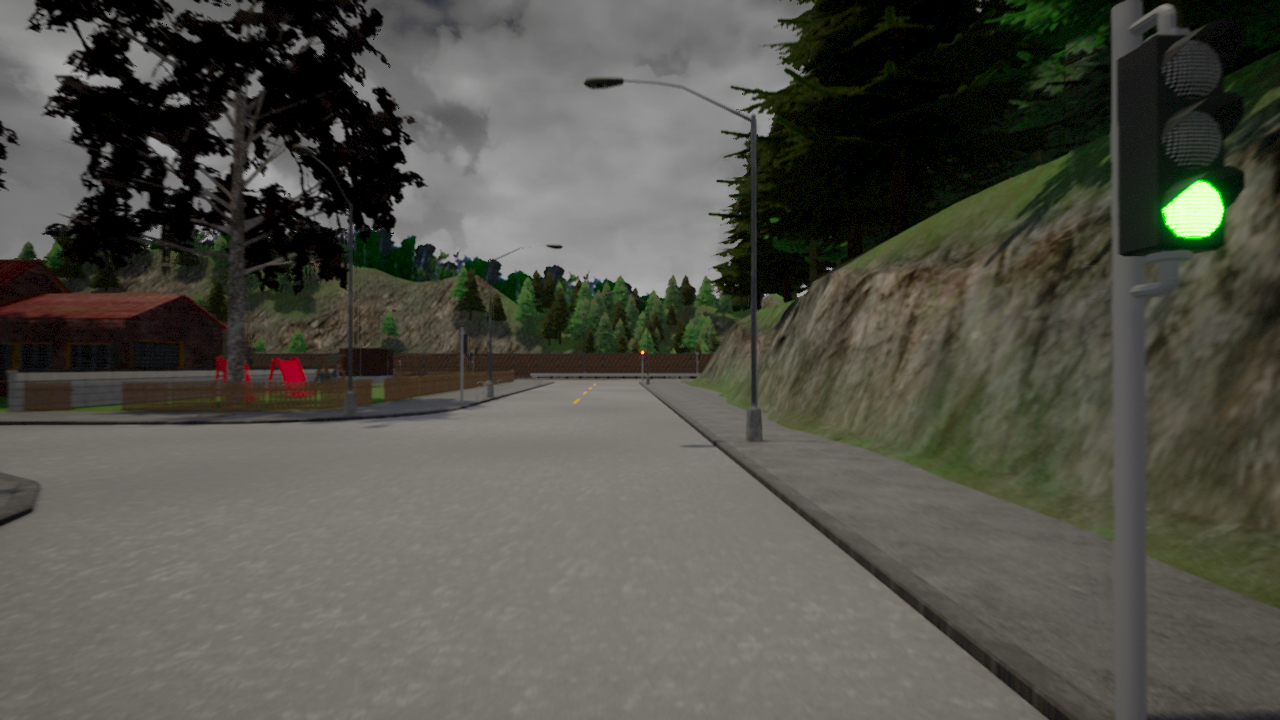green: (1123, 32, 1231, 254)
